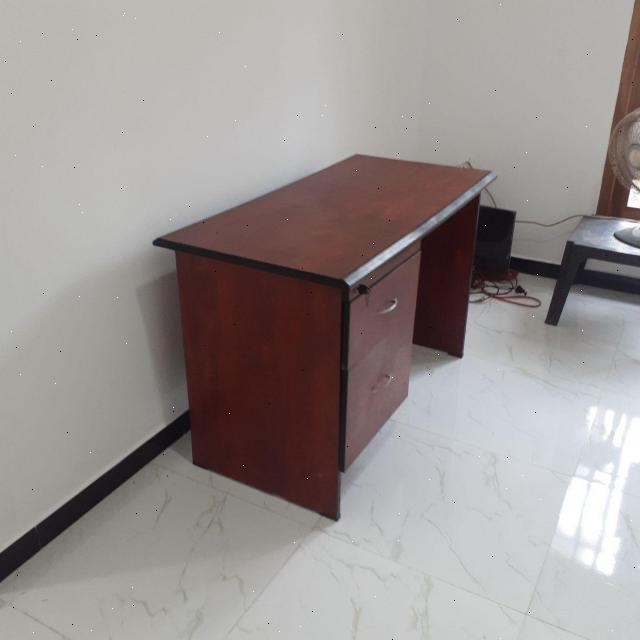mobile-phone: (150, 150, 500, 522)
